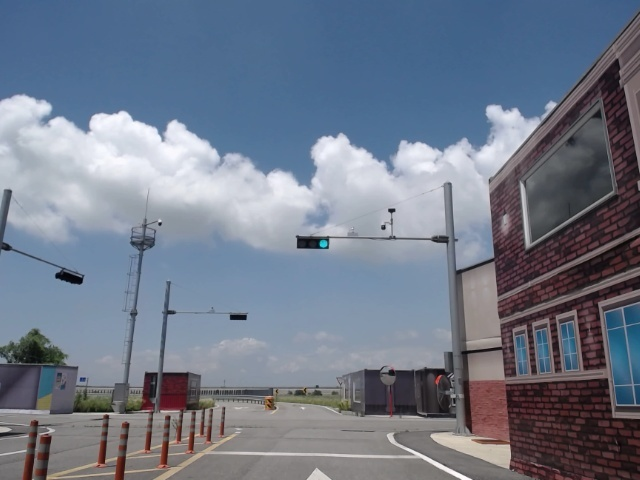green_3: (297, 237, 331, 250)
